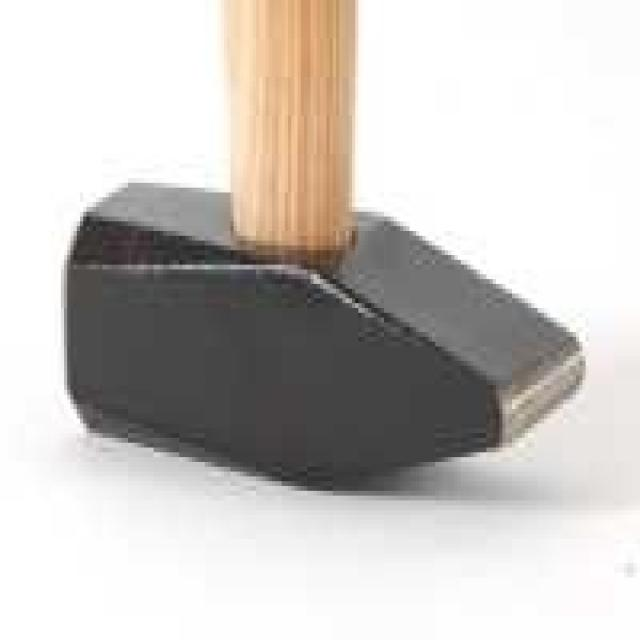hammer: (55, 15, 590, 533)
